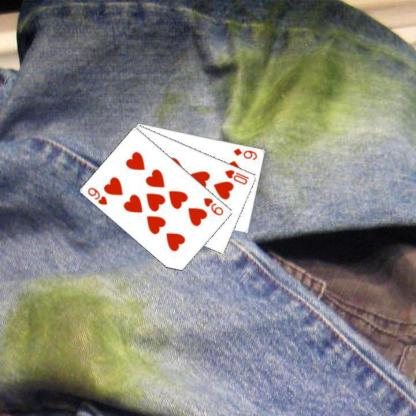10H: (223, 167, 250, 186)
6D: (231, 146, 258, 161)
9H: (201, 195, 225, 217), (85, 185, 109, 206)
